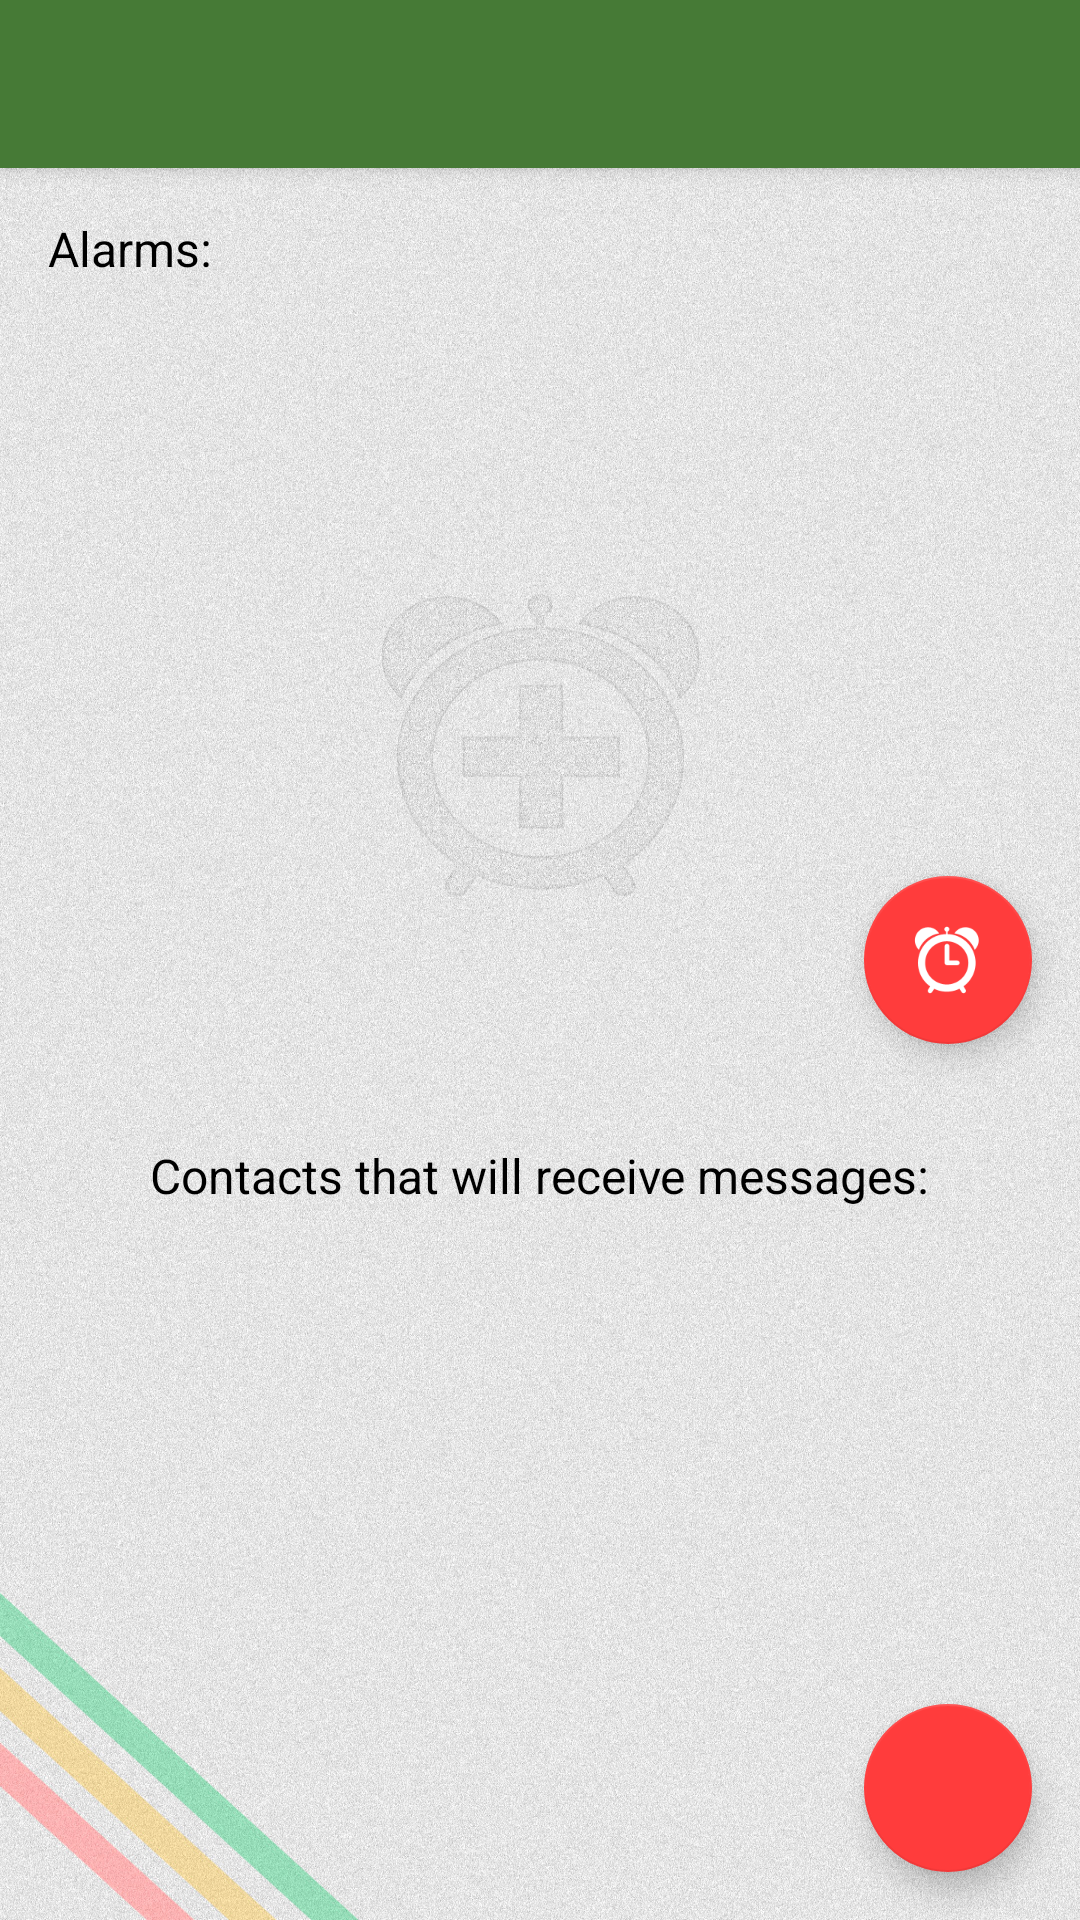

Screen size 1080 × 1920. Icon name, then its center in pixels as (x,y):
add alarm: (948,960)
